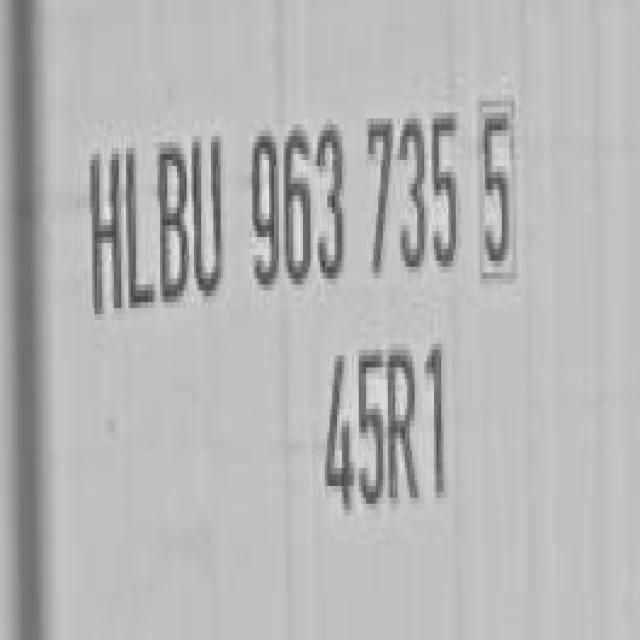dv: (474, 83, 526, 296)
owner: (84, 90, 228, 327)
serial: (238, 79, 463, 303)
size: (312, 326, 461, 540)
